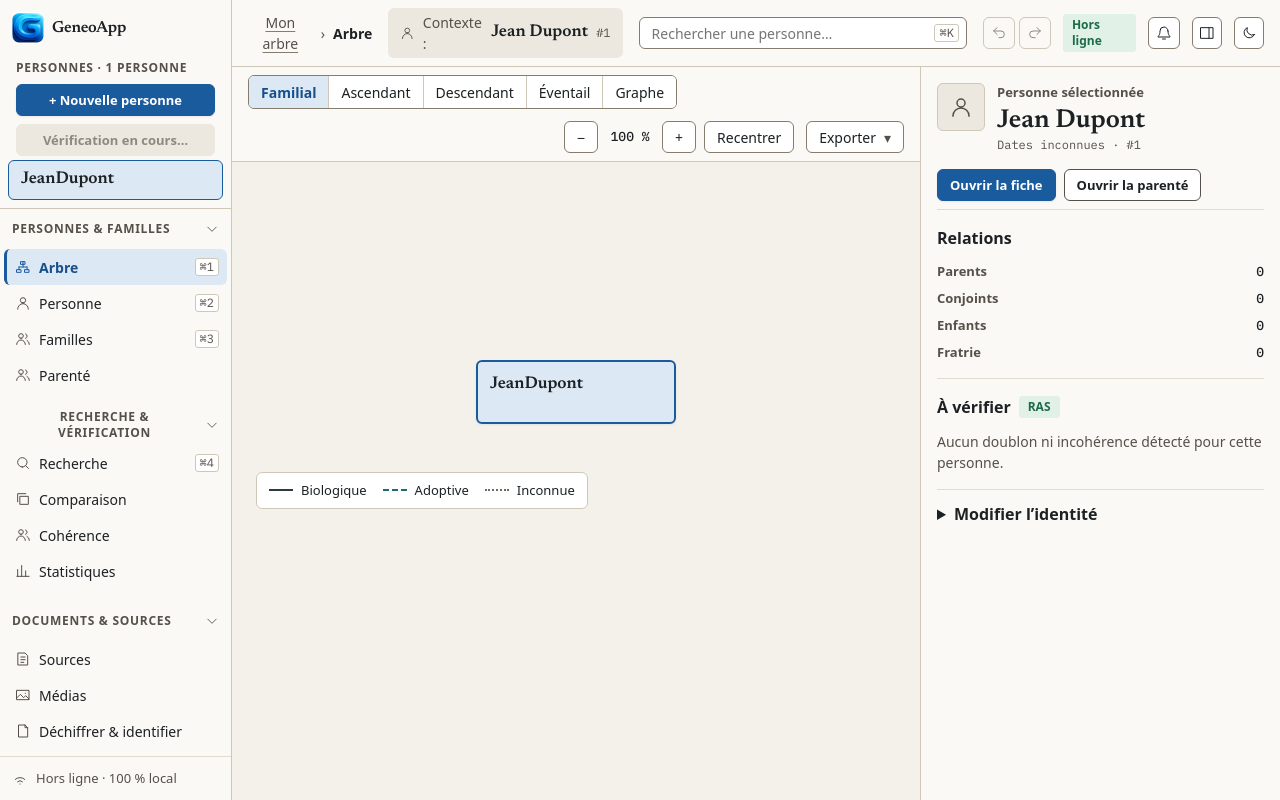
it: App › affiche l’arbre ascendant réel avec numéros Sosa et branches
This screenshot has width=1280, height=800.
Expected: the text "1 personne" is shown, [106, 59, 187, 76]
Click the button "Ascendant": (375, 92) [328, 76, 422, 108]
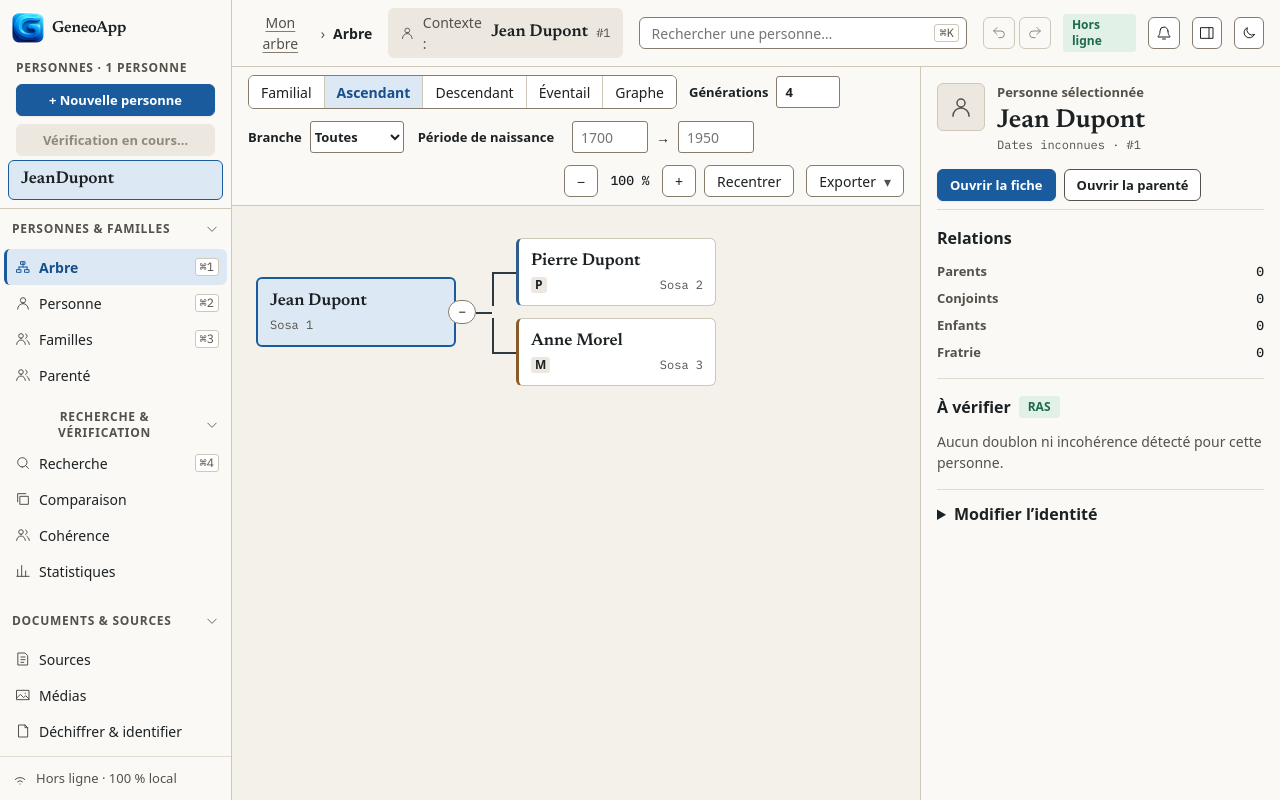
Expected: the text "Sosa 2" is shown, [660, 277, 703, 293]
Expected: the text "Sosa 3" is shown, [660, 357, 703, 373]
Expected: the text named "Branche maternelle" is shown, [531, 357, 550, 373]
Click the button named "Zoom avant": (679, 181) [662, 165, 696, 197]
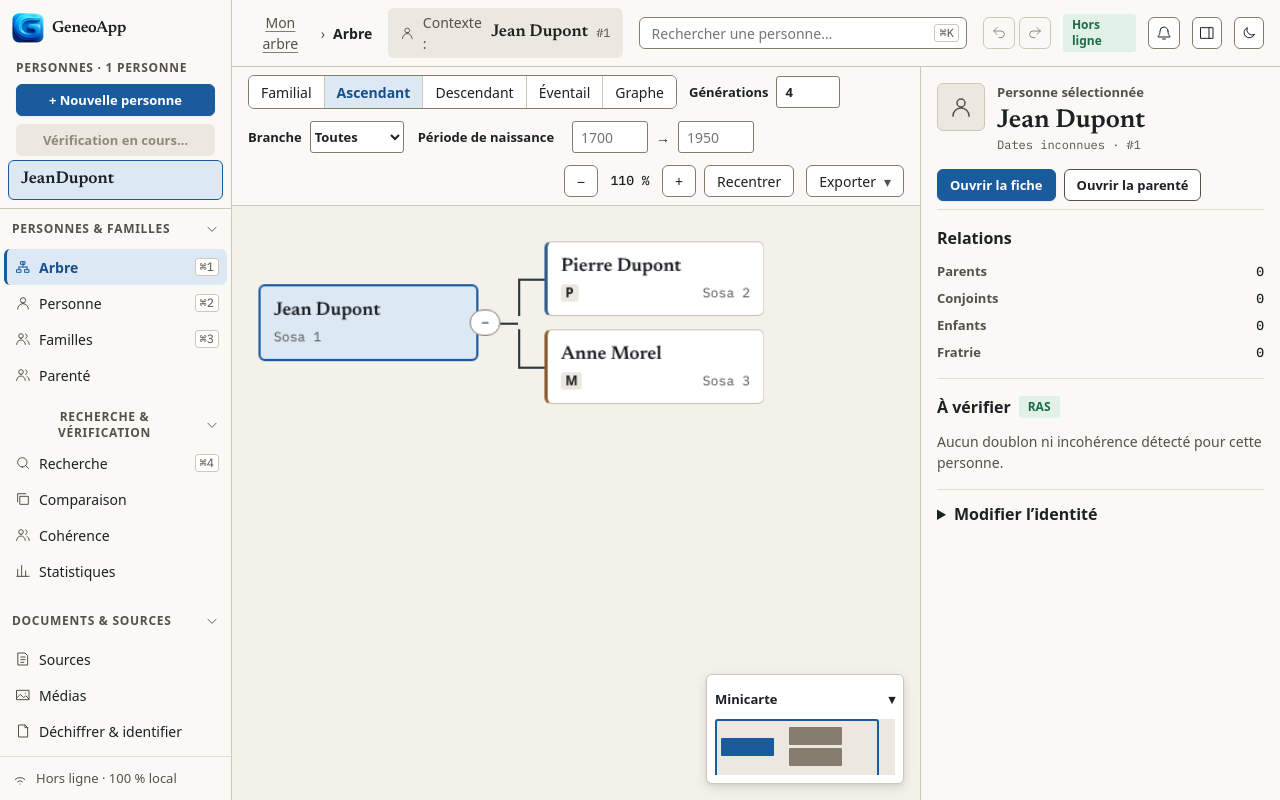
Expected: the text "110 %" is shown, [610, 172, 650, 189]
Click the button "Recentrer": (749, 181) [704, 165, 794, 197]
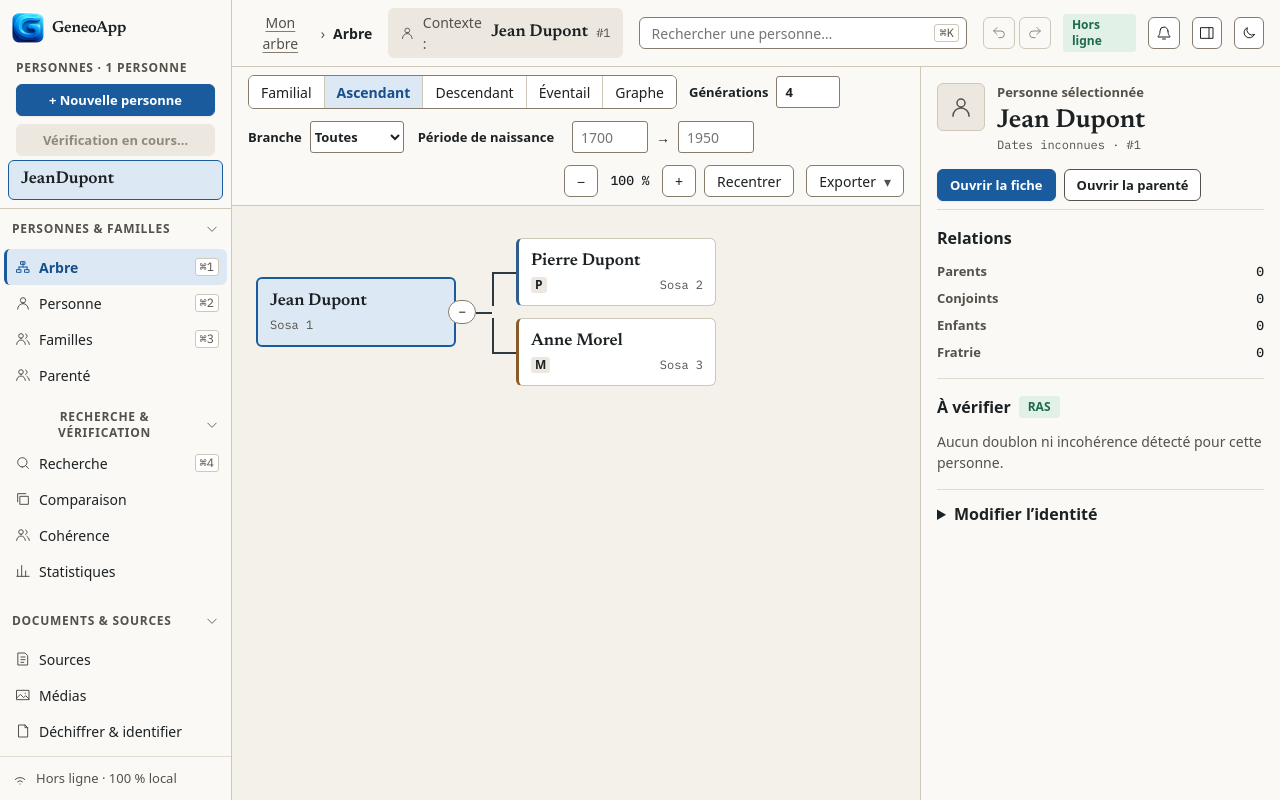
Expected: the text "100 %" is shown, [610, 172, 650, 189]
